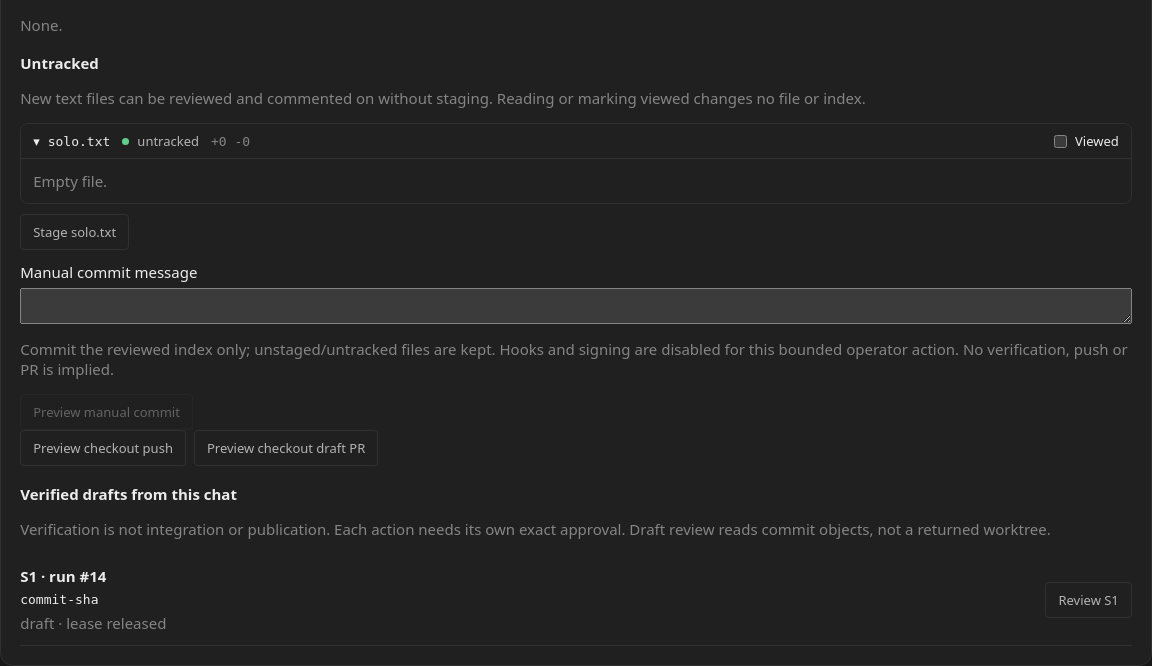
Scenario: shows real working changes separately from a chat's returned-worktree draft
The width and height of the screenshot is (1152, 666).
(page scrolled)
Check: the text "solo.txt" is shown, box [48,134,110,149]
Click the button "Review S1" at (1089, 600), box [1045,582,1132,618]
(page scrolled)
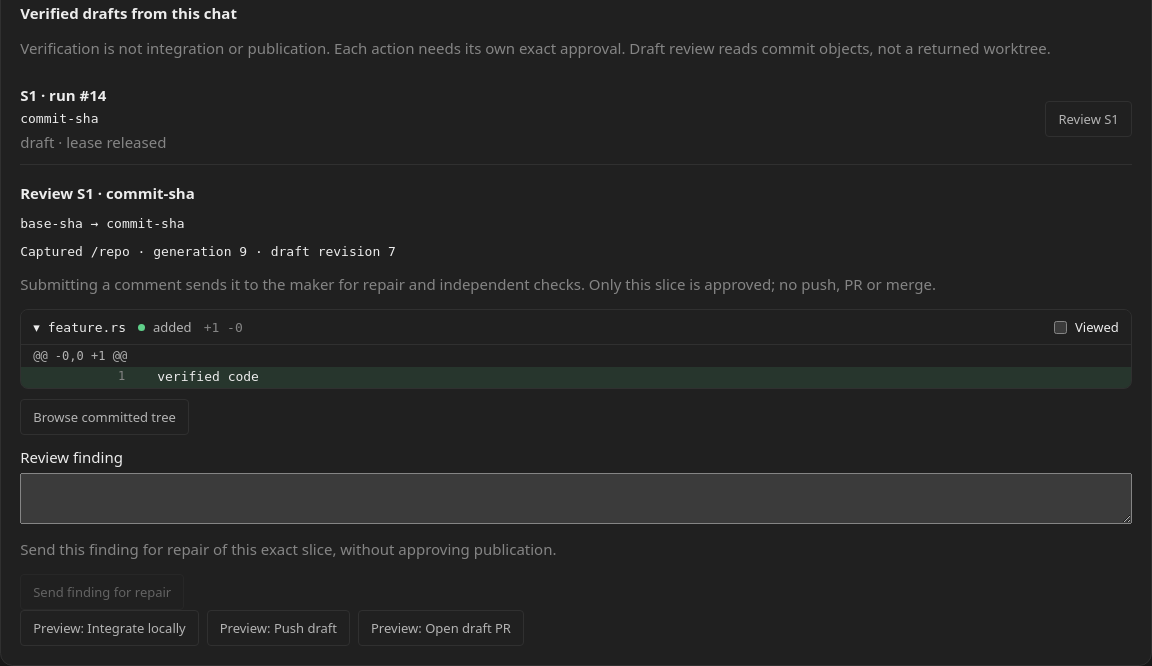
Check: the text "verified code" is shown, box [157,369,259,384]
